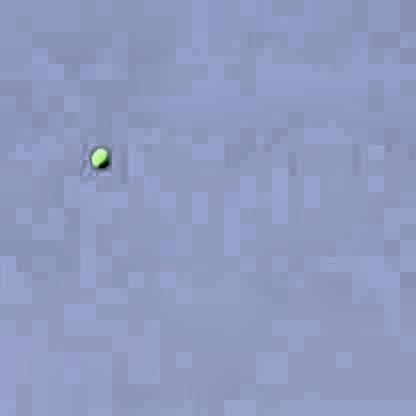golfball: (87, 147, 111, 169)
